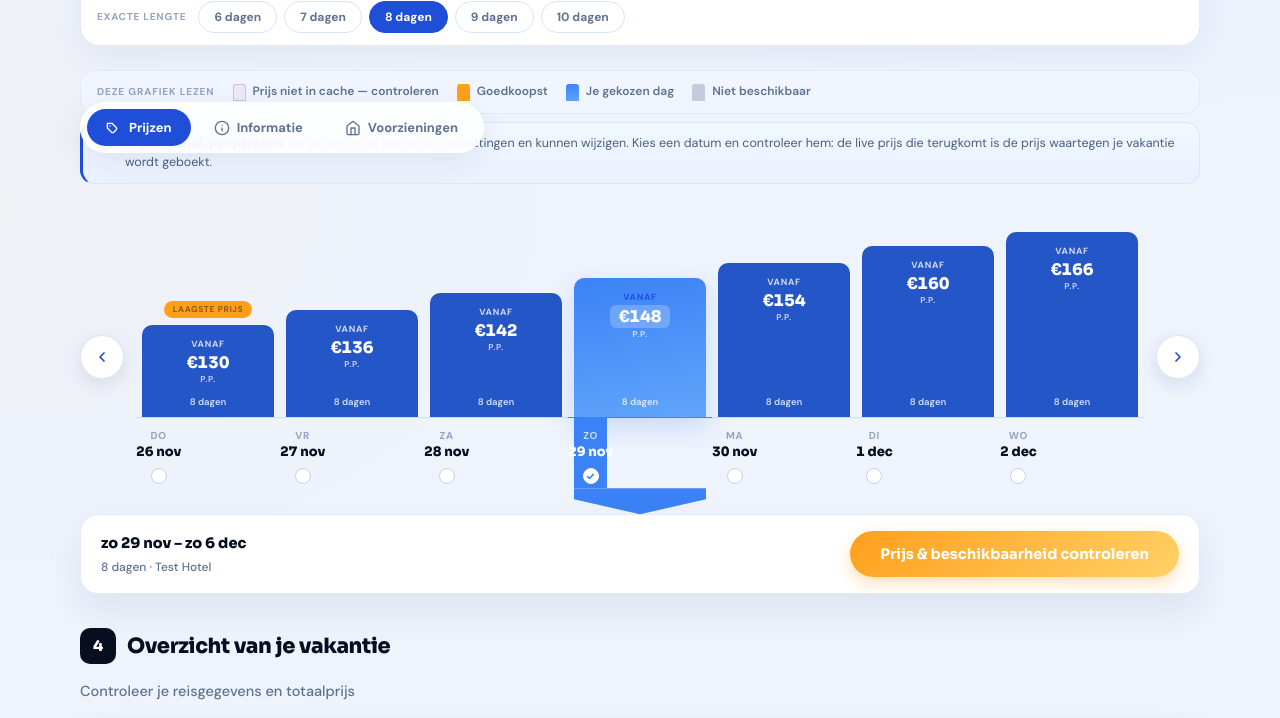
Test: rooms the supplier could not price › prices the rooms that DO have a rate and ignores the ones that do not
(page scrolled)
Click the button "Laagste prijs vanaf €130 p.p. 8 dagen do 26 nov" at (208, 360), box [136,206,280,514]
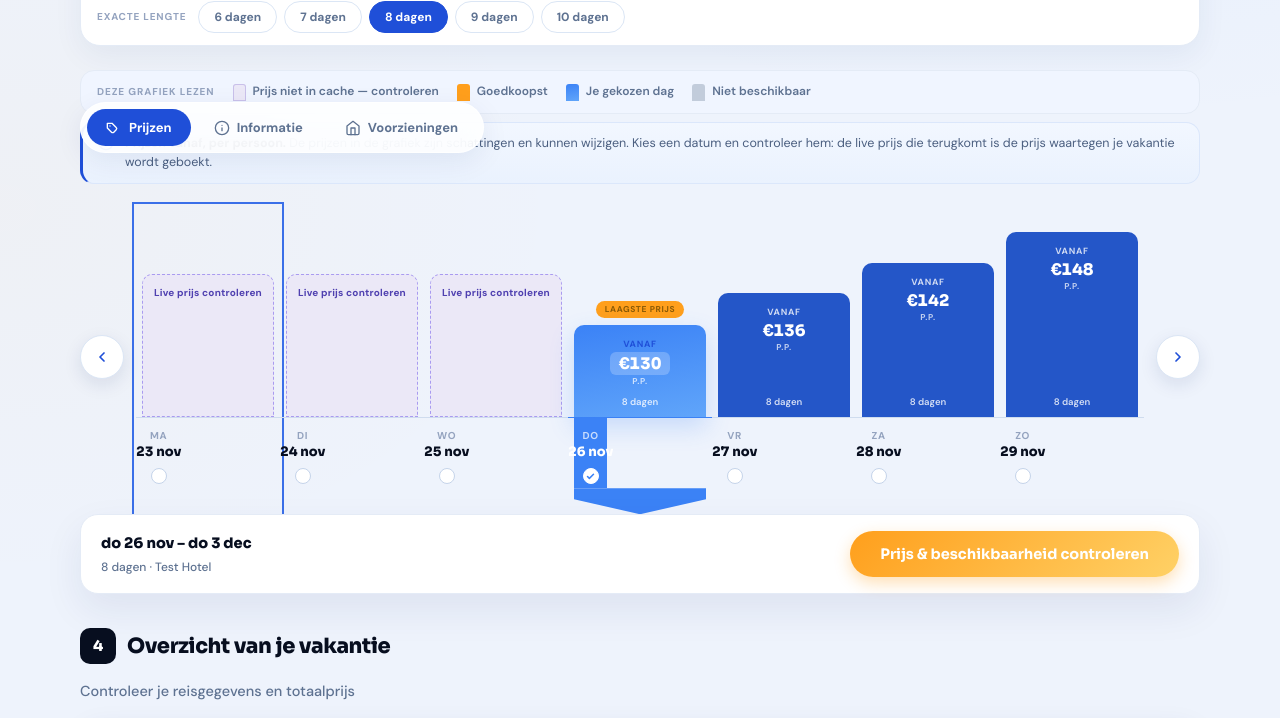
Click the button "Prijs & beschikbaarheid controleren" at (1015, 554), box [850,531,1179,577]
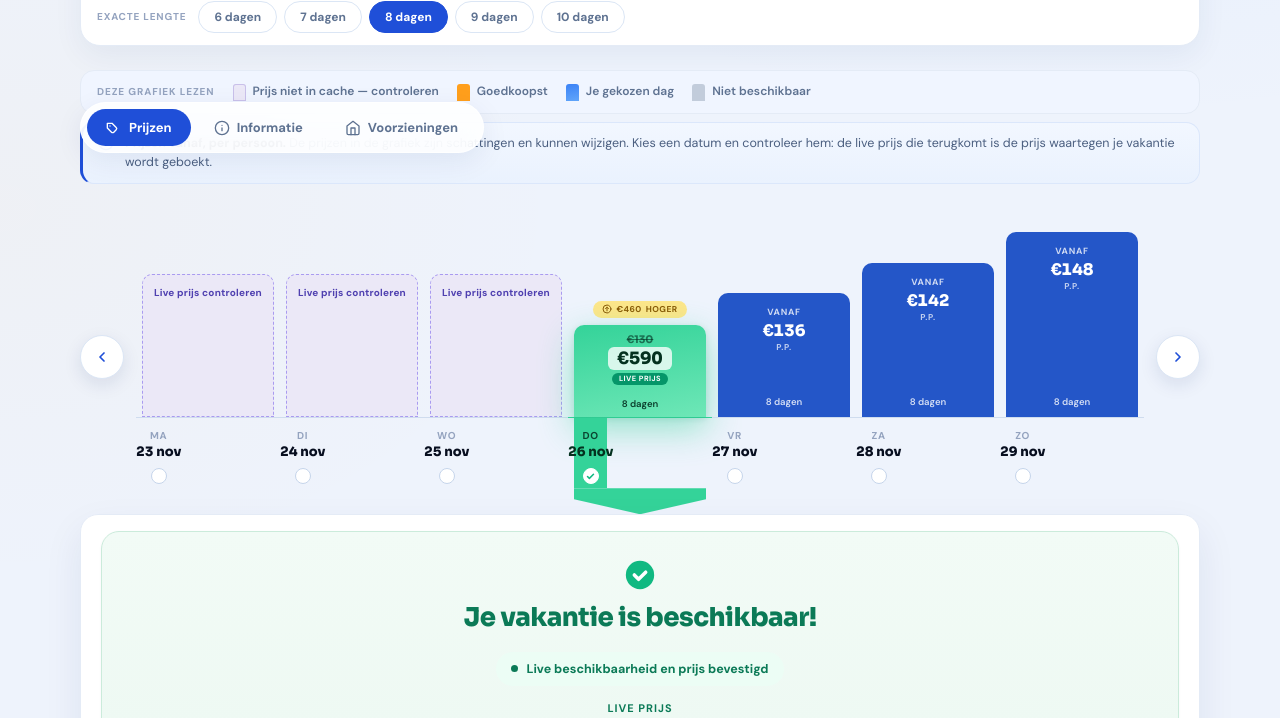
Now the text "Je vakantie is beschikbaar!" is shown, box [463,602,817,634]
